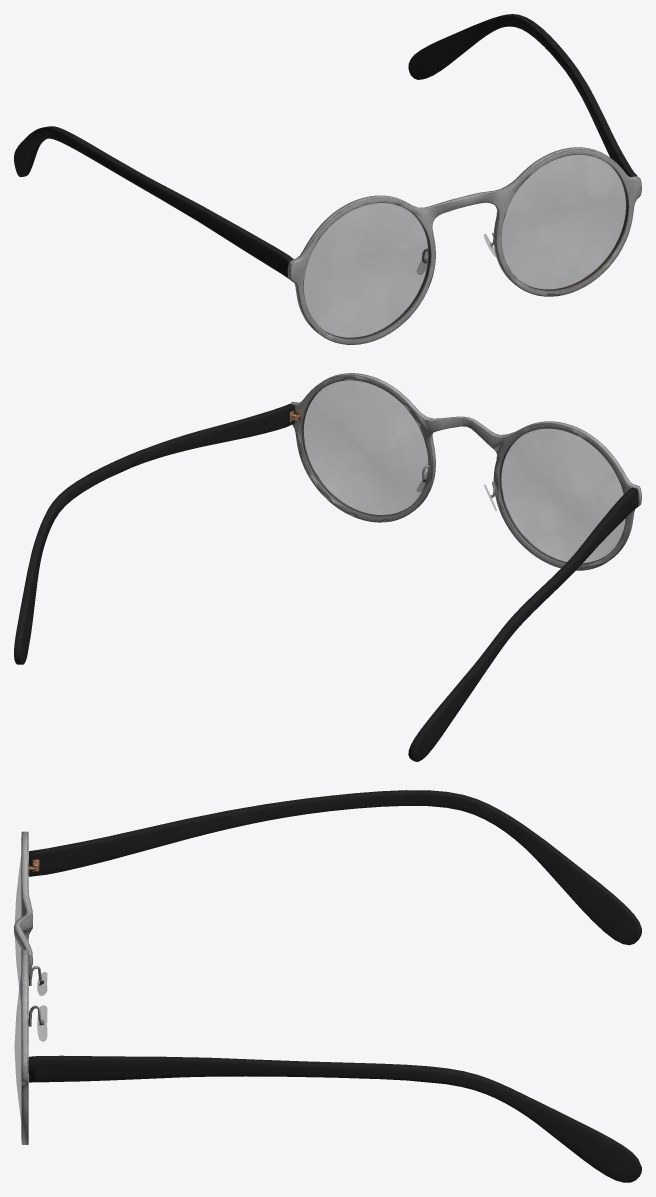
Rendered from round_spectacles.glb.
The picture shows the model from 3 angles, top to bottom: view 1: azimuth 30°, elevation 25°; view 2: azimuth 150°, elevation 25°; view 3: azimuth 270°, elevation 25°; orthographic projection. The views are drawn at different scales.
Parts seen in each view (by area): view 1: round_spectacles; view 2: round_spectacles; view 3: round_spectacles.
Part boxes in pixels (left/top/right/bottom): round_spectacles: left=14, top=14, right=641, bottom=344; round_spectacles: left=14, top=373, right=641, bottom=761; round_spectacles: left=14, top=790, right=641, bottom=1182.
Bounding box in the file's own units: 0.1578 × 0.0463 × 0.149.
Materials: 2 (2 with a texture image).
